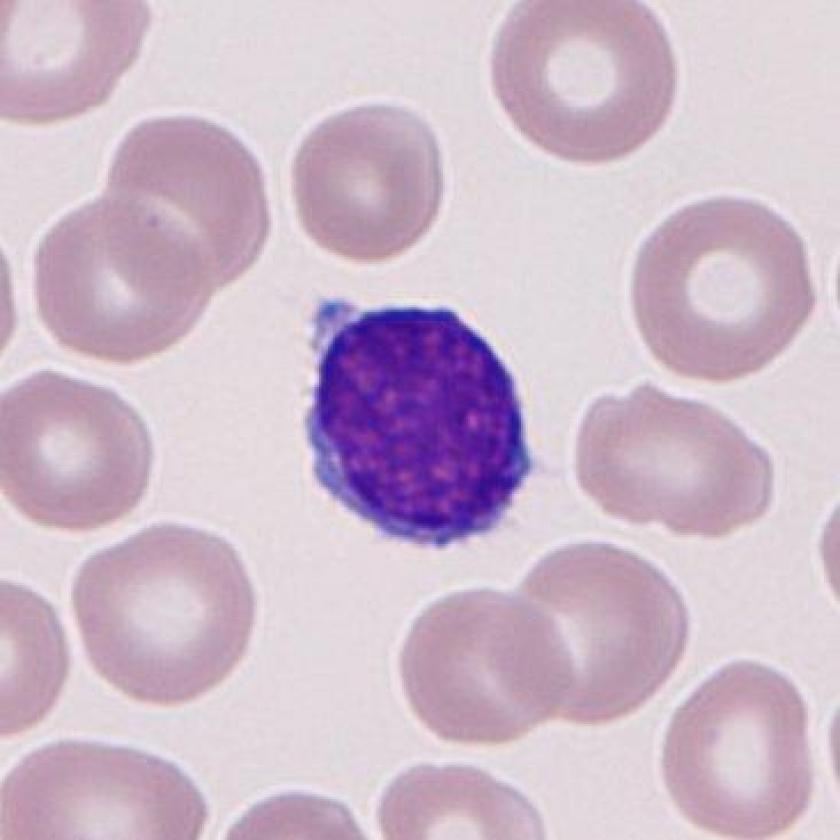lymphocyte: (279, 286, 559, 566)
